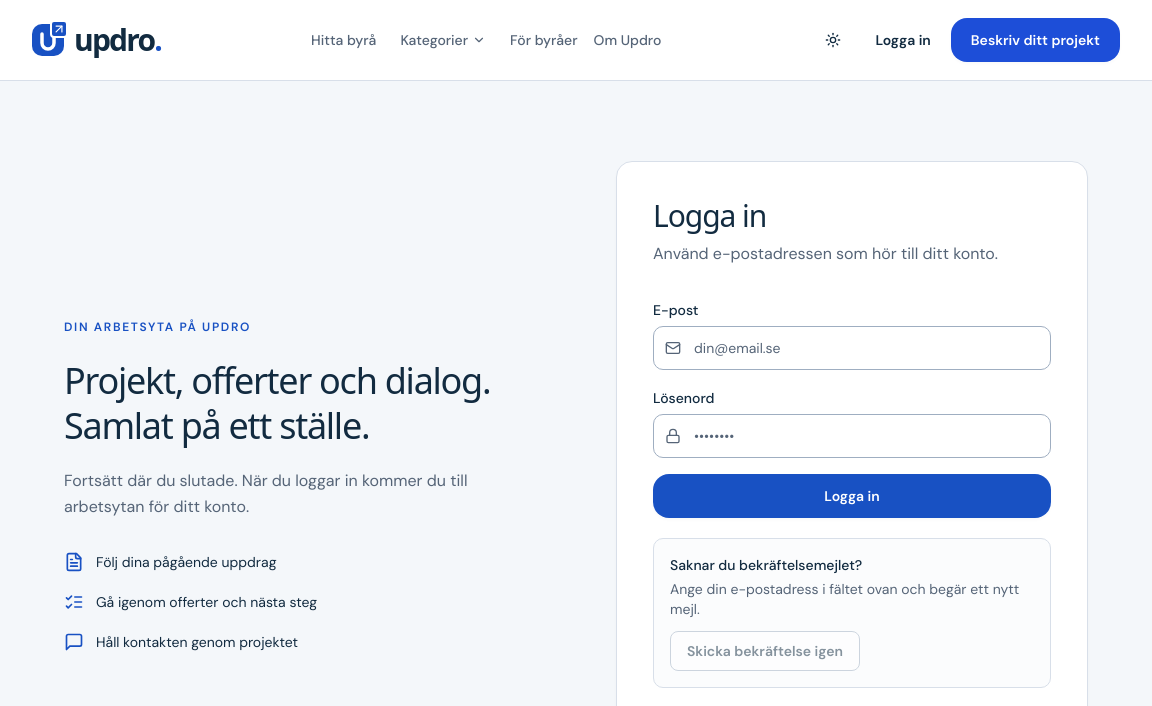
it: explains invalid_credentials separately on the login form
In the field labelled "E-post": x=852, y=348 [653,326,1051,370], type "user@example.test"
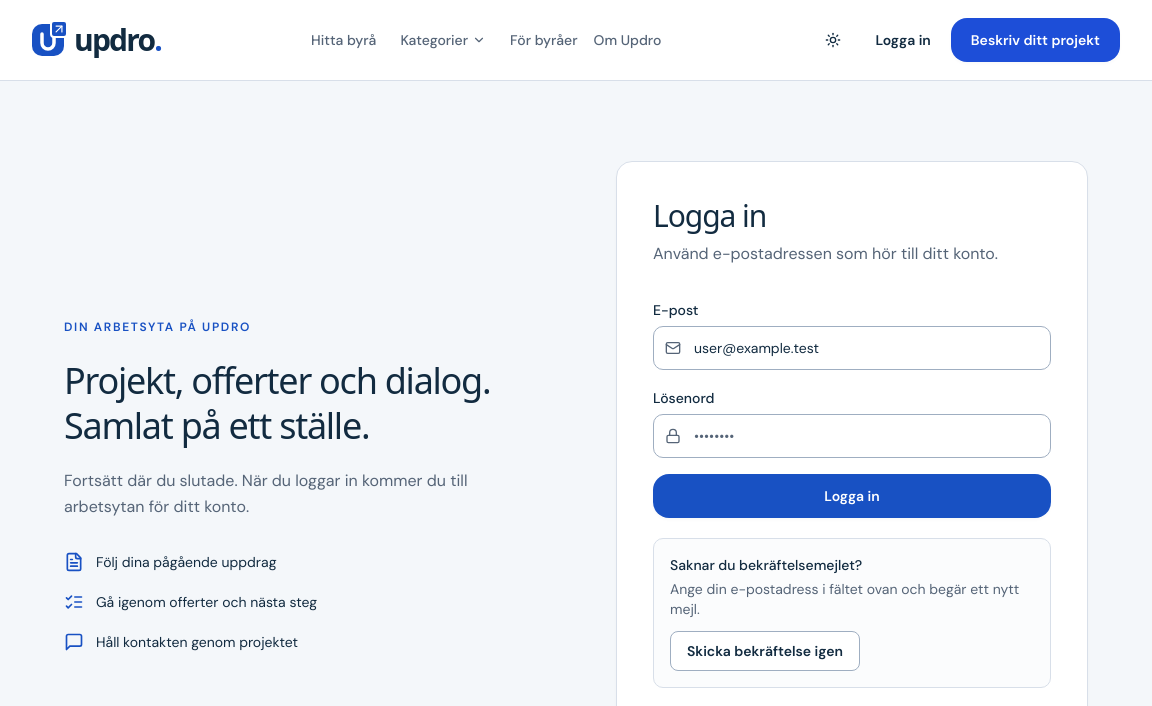
In the password field labelled "Lösenord": x=852, y=436 [653,414,1051,458], type "password"
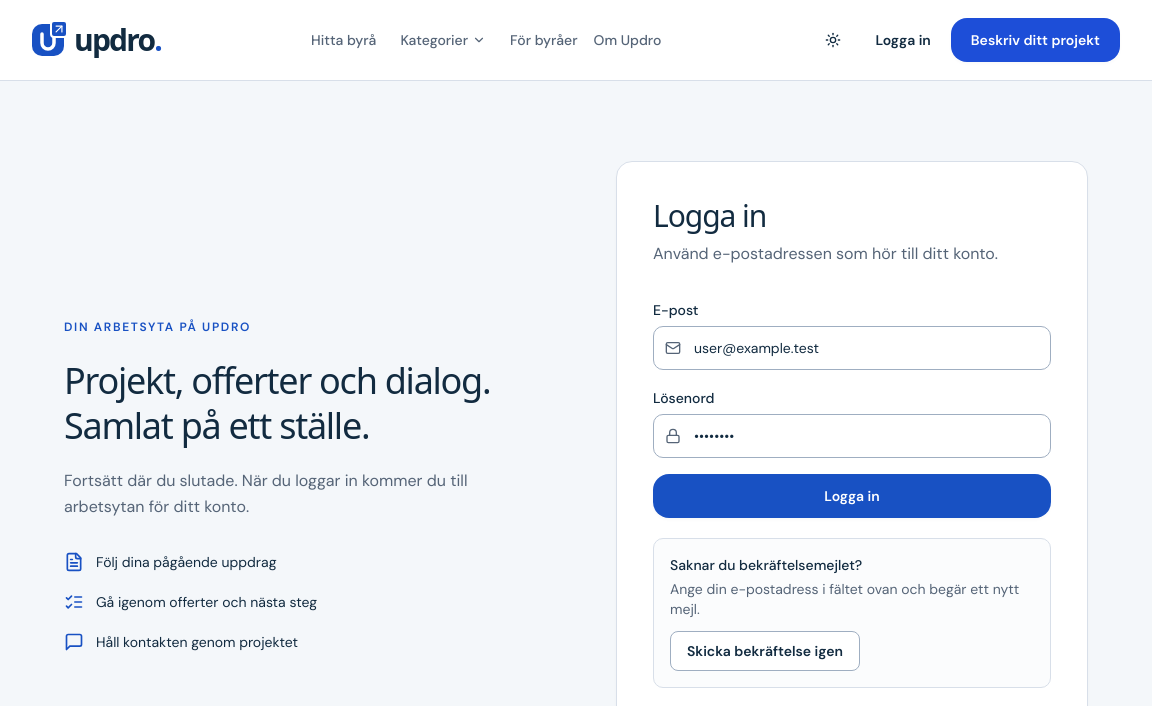
Click the button "Logga in": x=852, y=496 [653,474,1051,518]
(page scrolled)
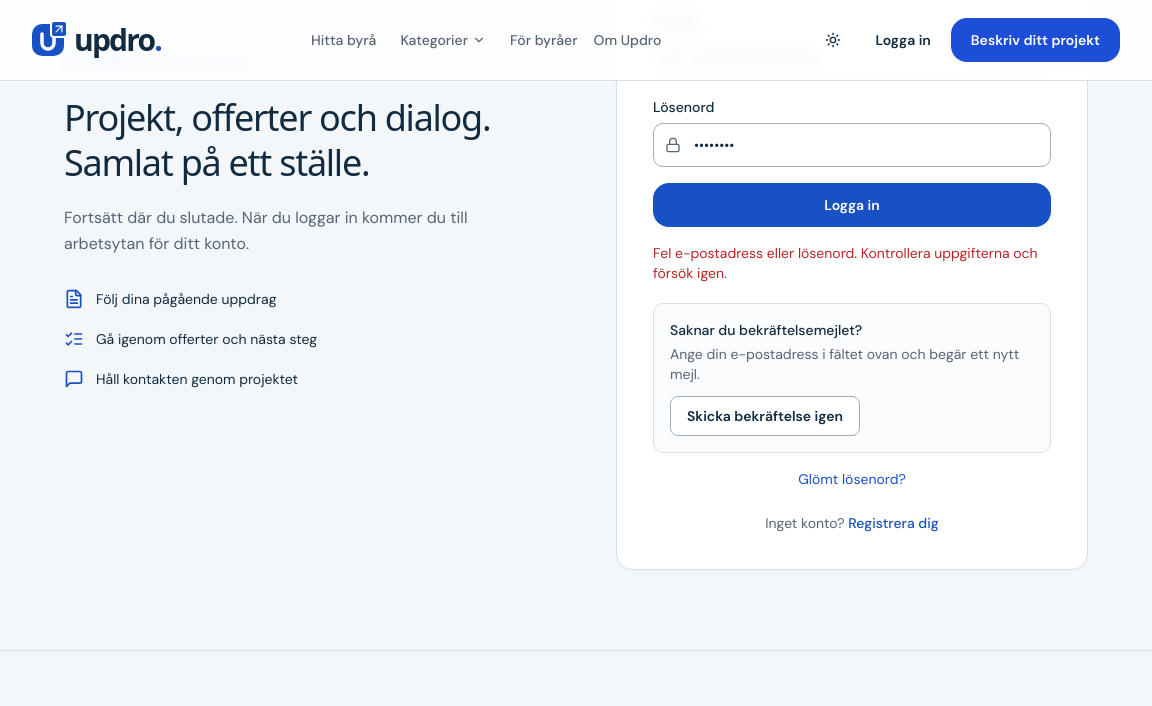
Expected: the button "Skicka bekräftelse igen" is enabled, [670,396,860,436]
Expected: the message shows "Fel e-postadress eller lösenord.", [653,244,1038,282]
